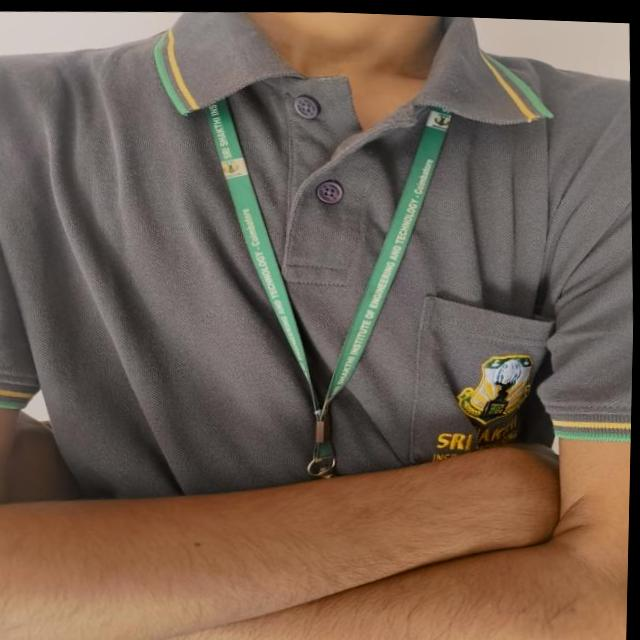id_card: (178, 81, 469, 498)
